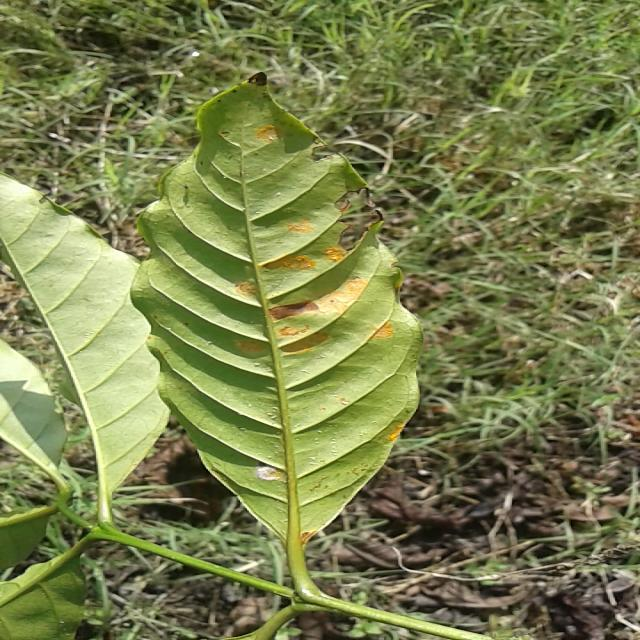Enfermedad-Roya: (131, 82, 423, 603)
